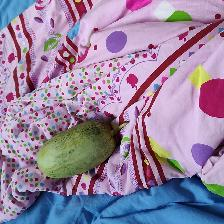gua: (34, 123, 118, 174)
